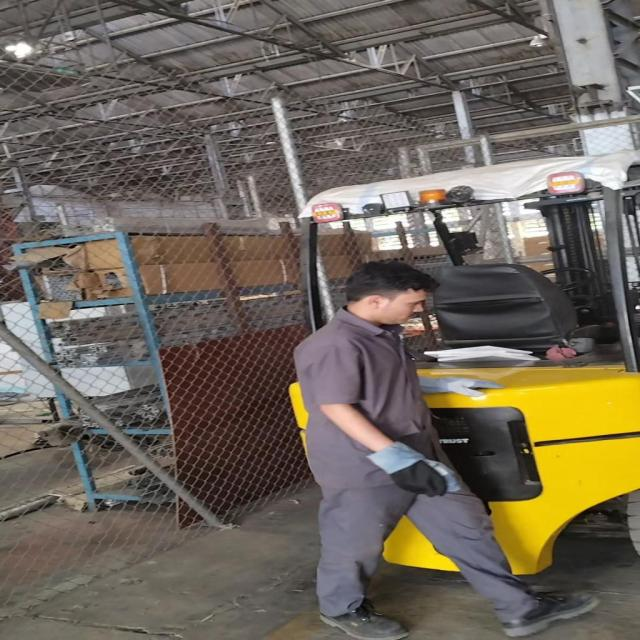Gloves-Detection: (362, 440, 468, 508), (410, 376, 492, 398)
